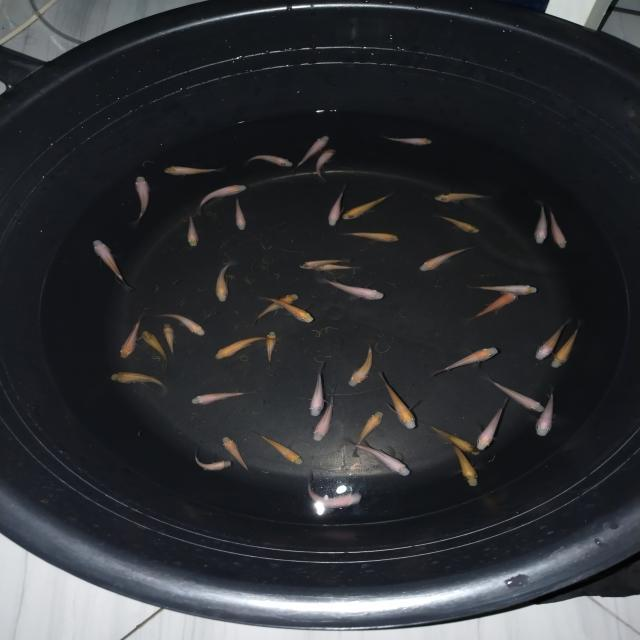nila: (378, 369, 423, 431), (300, 472, 370, 511), (348, 438, 414, 478), (431, 342, 504, 376), (264, 291, 324, 331), (88, 240, 132, 290), (474, 398, 514, 453), (466, 287, 524, 324), (485, 380, 547, 414), (528, 317, 574, 362), (413, 242, 477, 274), (428, 421, 486, 455), (322, 276, 390, 304), (347, 408, 388, 454), (336, 190, 391, 224), (157, 306, 215, 337), (212, 332, 266, 364), (547, 326, 588, 368), (106, 368, 172, 394), (249, 290, 297, 324), (311, 395, 344, 443), (186, 183, 248, 207), (347, 342, 377, 390), (257, 432, 304, 462), (453, 444, 485, 488), (530, 390, 560, 436), (114, 312, 144, 357), (187, 386, 252, 406), (296, 132, 333, 166), (436, 210, 482, 237), (546, 204, 573, 250), (339, 227, 402, 246), (306, 364, 328, 418), (134, 330, 172, 360), (250, 148, 290, 174), (159, 165, 233, 179), (476, 282, 544, 297), (225, 434, 253, 470), (133, 171, 151, 225), (214, 260, 234, 306), (430, 188, 495, 202), (192, 450, 232, 472), (292, 258, 363, 270), (313, 146, 338, 180), (532, 202, 550, 249), (325, 187, 342, 230), (232, 192, 250, 232), (388, 132, 437, 146), (158, 324, 179, 356), (263, 328, 279, 366), (314, 263, 364, 274), (184, 214, 200, 247)
